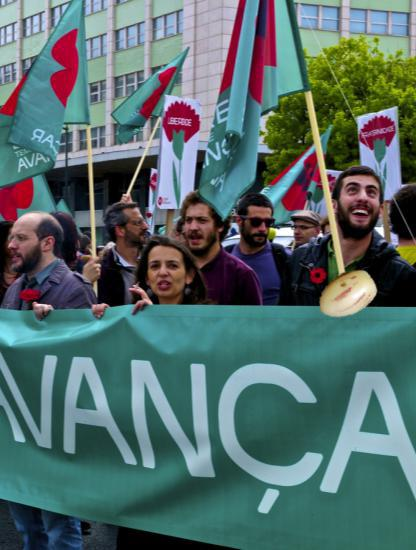Pepino: (316, 263, 378, 325)
